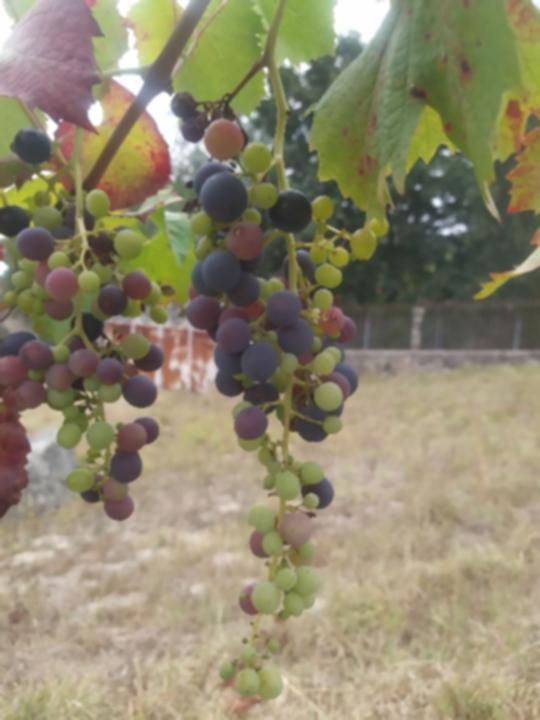grape: (172, 91, 389, 699), (0, 124, 174, 525)
